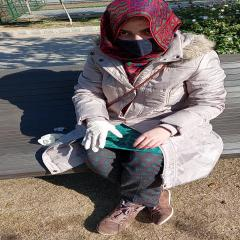gloved: (80, 120, 122, 152)
not-gloved: (130, 127, 171, 150)
